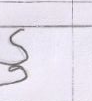u_matra: (1, 66, 30, 85)
